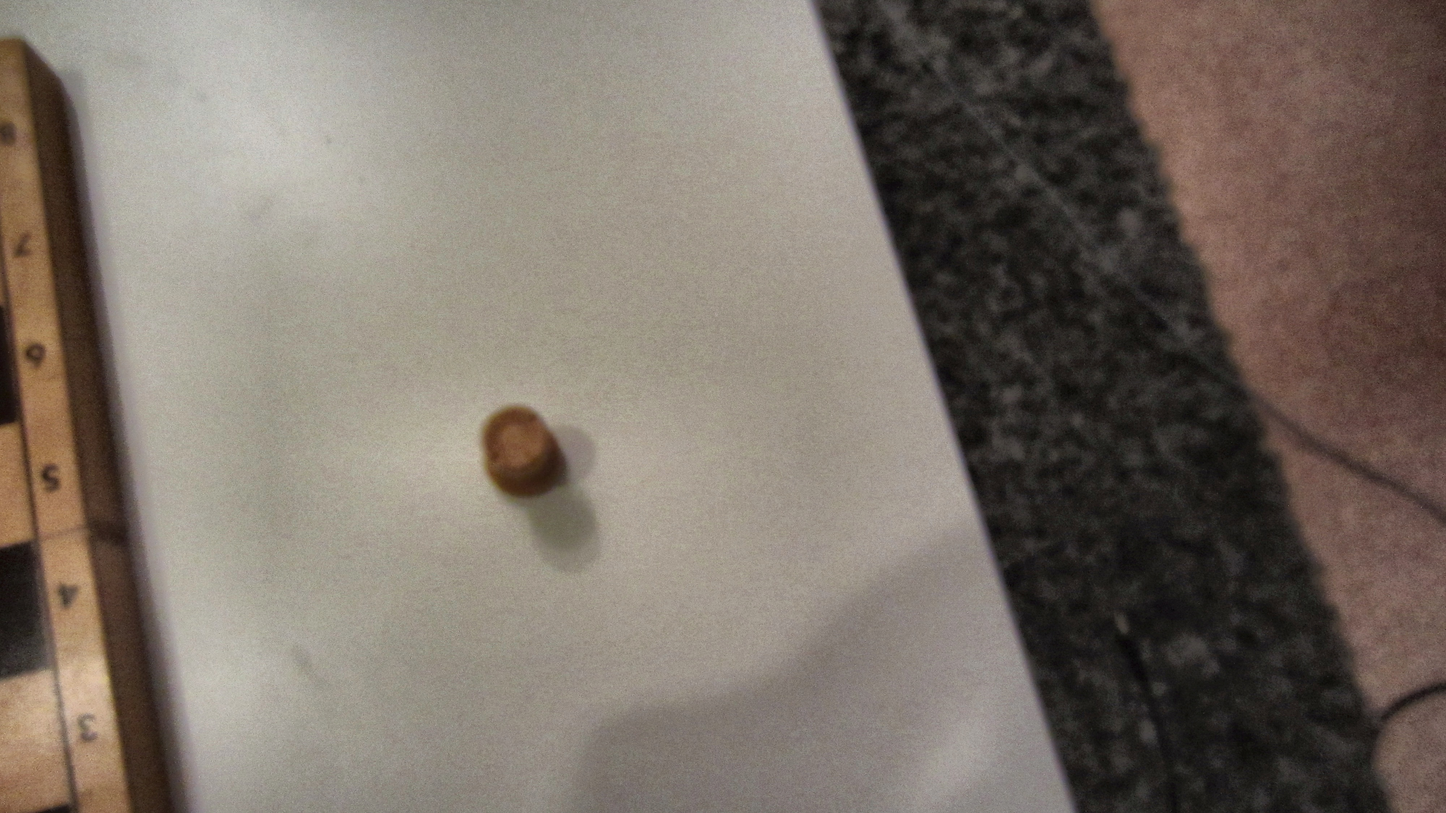white-rook: (479, 402, 565, 498)
